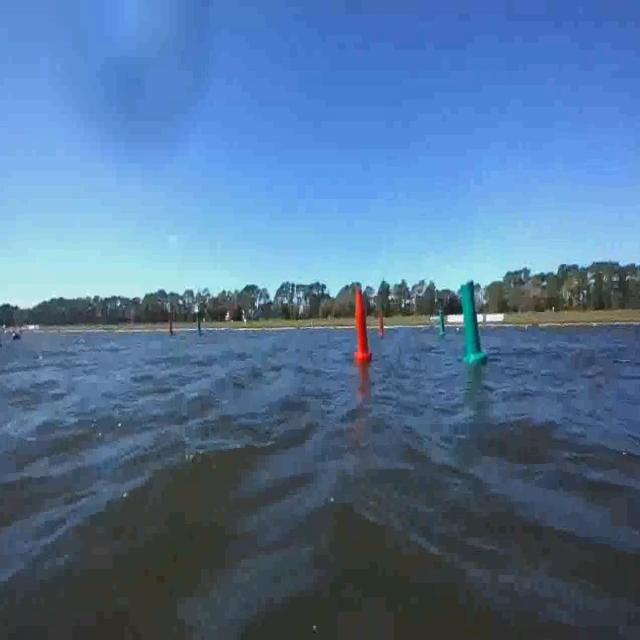black-buoy: (12, 333, 21, 343)
green-column-buoy: (458, 283, 487, 366), (438, 313, 446, 340), (197, 315, 205, 338)
red-column-buoy: (352, 284, 372, 362), (378, 311, 387, 338), (168, 318, 176, 337)
